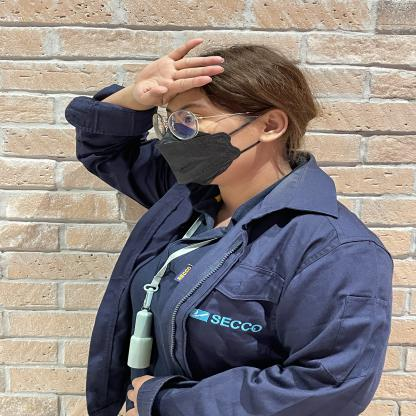Sick: (47, 26, 254, 140)
